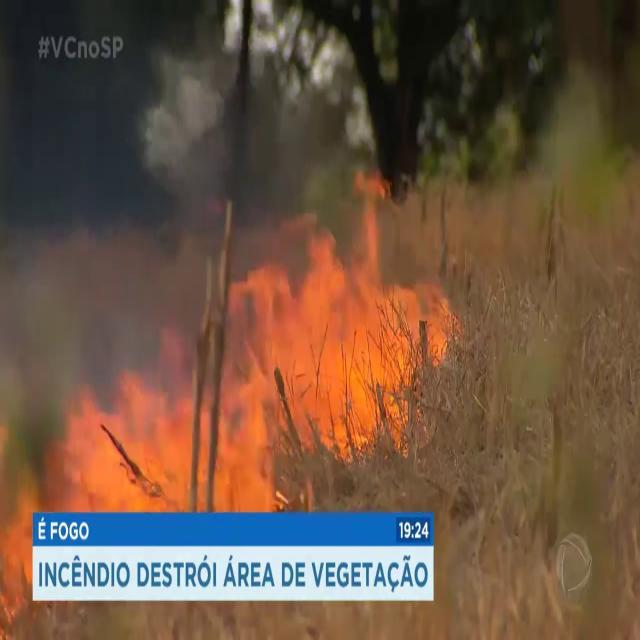Fire: (51, 196, 456, 498)
Smoke: (0, 0, 278, 467)
